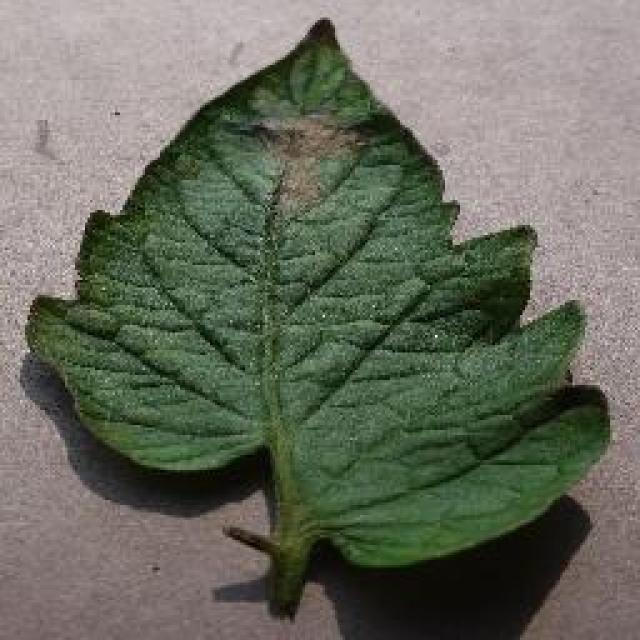Tomato late blight leaf: (25, 8, 610, 567)
